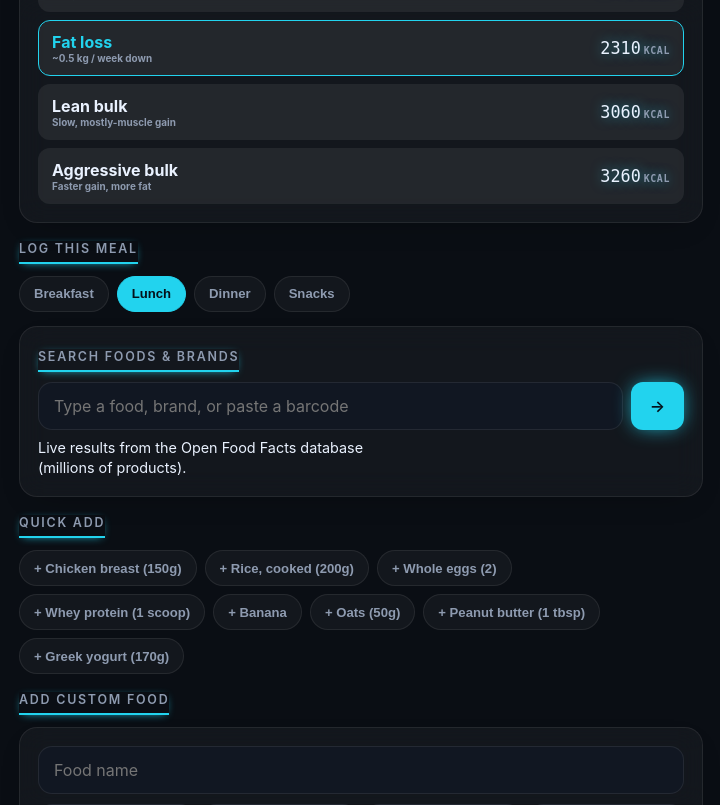
it: Eat › shows an error state when the food database is unreachable
(page scrolled)
Type "chicken" into the field named "Search foods & brands".
click(330, 406); type("chicken")  # box left=38, top=382, right=623, bottom=430
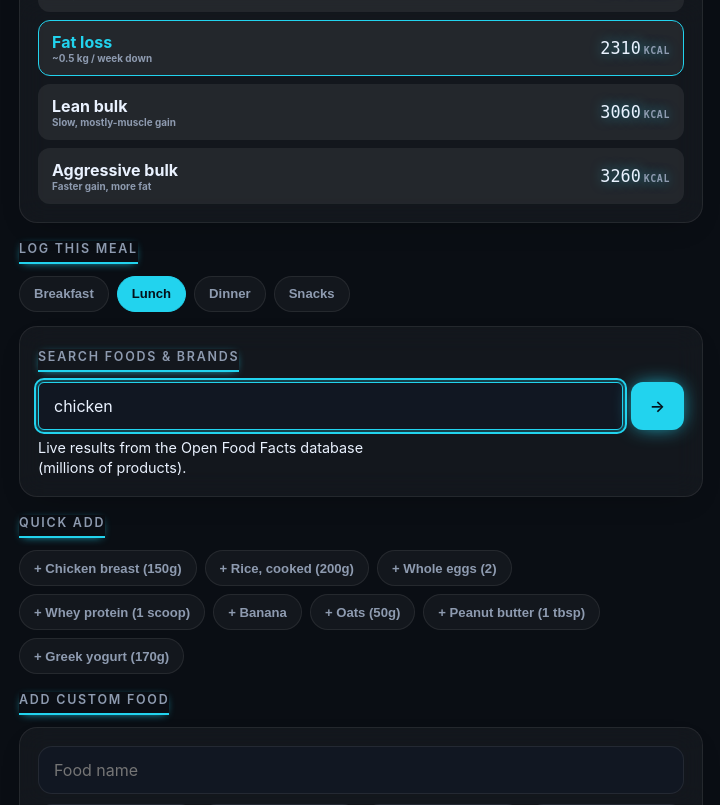
Click the button named "Search".
click(657, 406)  # box left=631, top=382, right=684, bottom=430
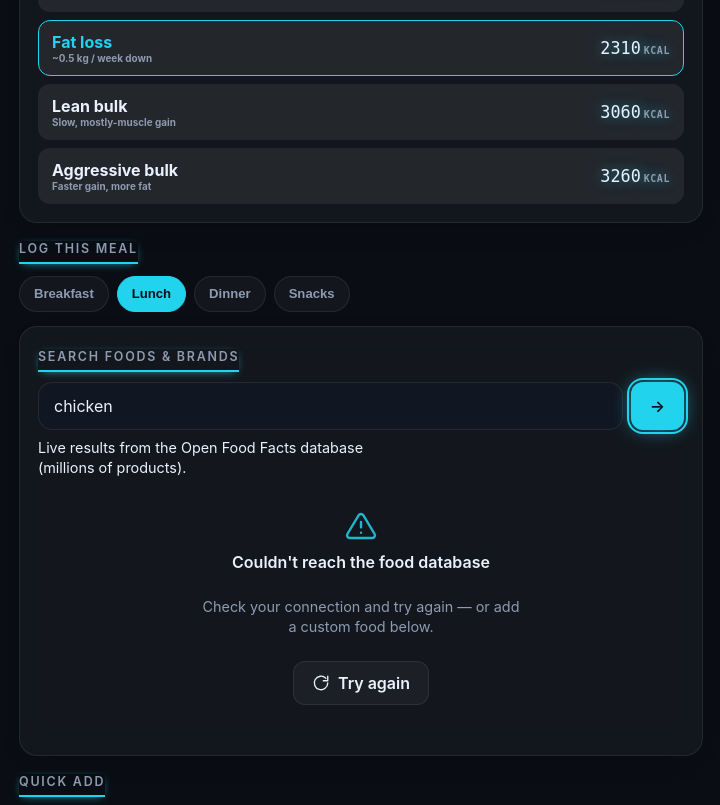
Expected: the text "Couldn't reach the food database" is shown, left=232, top=552, right=490, bottom=572
